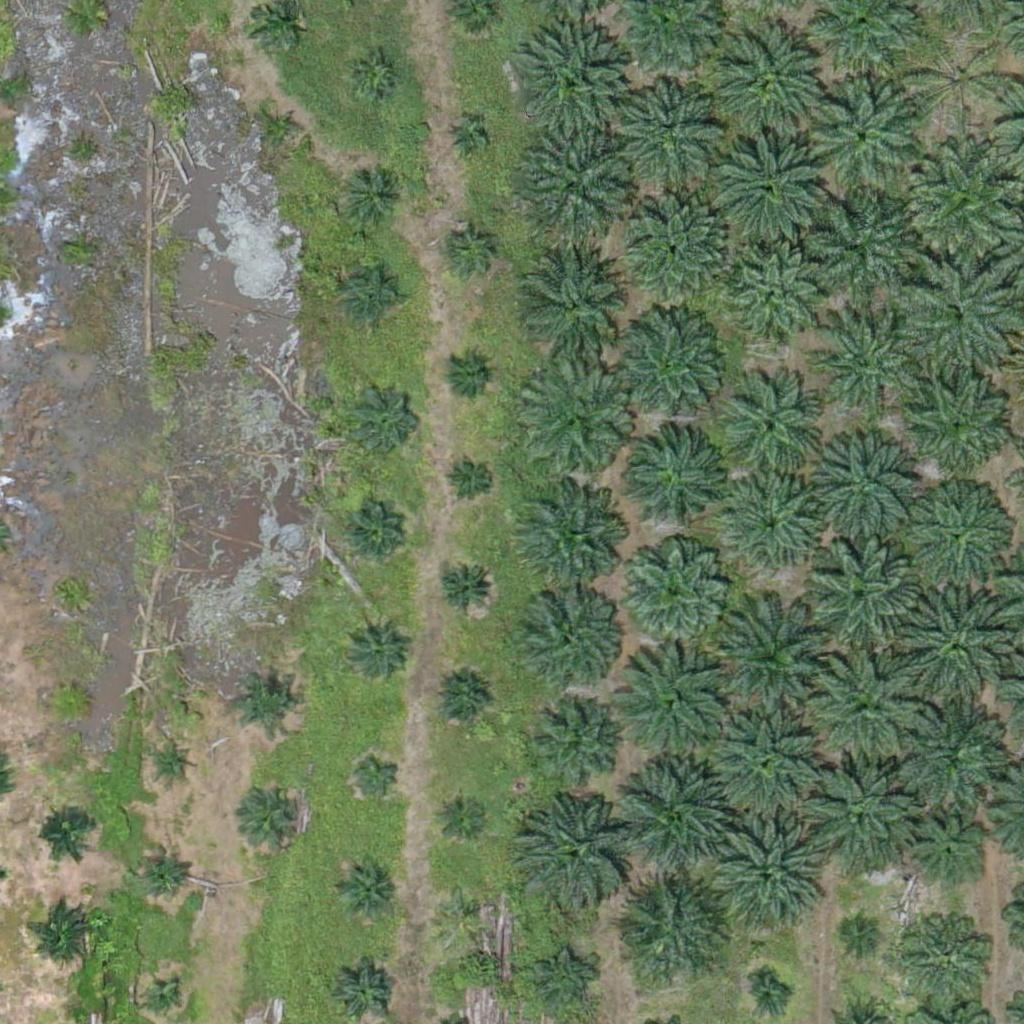Kelapa_Sawit: (714, 597, 839, 723), (512, 791, 637, 917), (709, 705, 822, 819), (619, 650, 732, 764), (617, 535, 730, 649), (521, 367, 634, 481), (900, 590, 1013, 703), (886, 691, 999, 804), (707, 814, 820, 927), (620, 756, 733, 869), (611, 871, 724, 984), (518, 26, 631, 139), (519, 128, 632, 241), (519, 243, 632, 356), (802, 191, 915, 304), (810, 83, 923, 196), (906, 144, 1019, 257), (902, 262, 1015, 375), (898, 367, 1011, 480), (611, 312, 724, 425), (800, 751, 912, 865), (514, 486, 626, 600), (811, 649, 923, 762), (718, 22, 830, 135), (714, 129, 826, 242), (810, 307, 922, 420), (806, 539, 918, 652), (909, 31, 1009, 132), (629, 195, 729, 296), (625, 81, 725, 182), (726, 249, 826, 350), (908, 487, 1008, 588), (815, 432, 915, 533), (723, 381, 823, 482), (520, 584, 620, 685), (724, 474, 824, 574), (628, 428, 728, 528), (900, 912, 988, 1000), (530, 701, 618, 789), (906, 815, 981, 891), (348, 380, 423, 455), (246, 784, 309, 847), (235, 668, 298, 731), (344, 507, 407, 570), (333, 856, 396, 919), (434, 557, 497, 620), (36, 902, 98, 965), (35, 802, 97, 865), (344, 167, 406, 230), (343, 264, 405, 327), (345, 618, 407, 681), (533, 948, 595, 1011), (431, 669, 493, 732), (446, 224, 496, 275), (437, 786, 487, 837), (436, 883, 486, 934), (352, 748, 402, 799), (442, 348, 492, 399), (350, 52, 400, 102), (138, 846, 188, 896), (446, 456, 496, 506), (845, 916, 883, 954), (155, 744, 193, 782), (145, 982, 183, 1020), (265, 110, 303, 148), (448, 119, 486, 157), (52, 684, 90, 722), (750, 978, 787, 1016)
